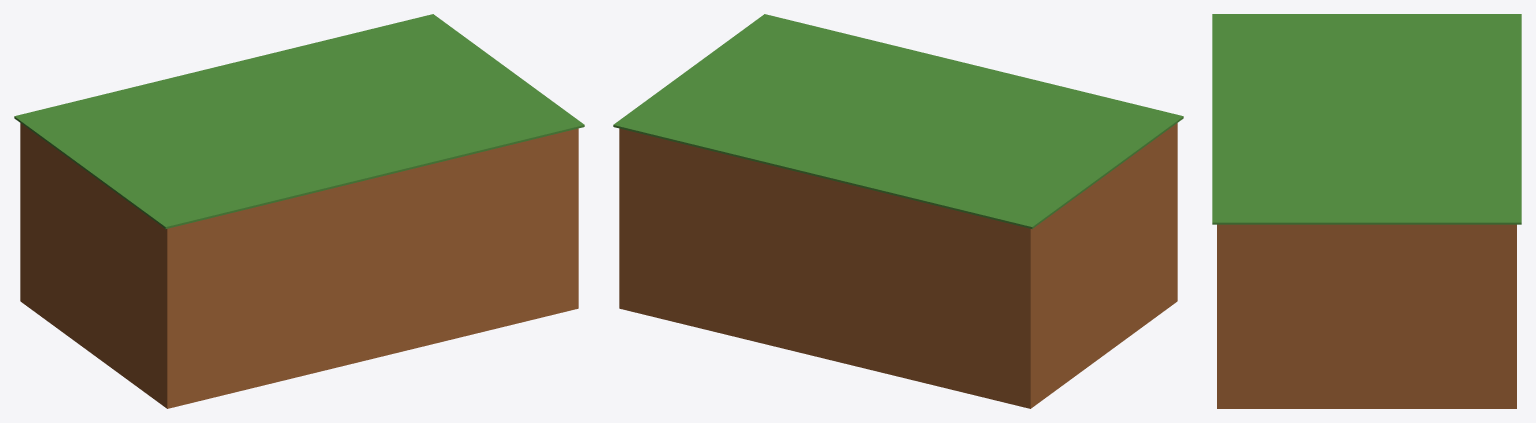
The model's file is O_SPlatform3.glb.
3 renders of one model, left to right at view 1: azimuth 30°, elevation 25°; view 2: azimuth 150°, elevation 25°; view 3: azimuth 270°, elevation 25°, orthographic. The views are drawn at different scales.
Visible parts, largest first — view 1: SPlatform3; view 2: SPlatform3; view 3: SPlatform3.
Boxes of the visible parts, x1,y1,x2,y2 form: SPlatform3: (14,14,584,408); SPlatform3: (613,14,1183,408); SPlatform3: (1212,14,1521,408).
Size of what is drawn, in the model's own units: 21.4 by 9 by 13.4.
